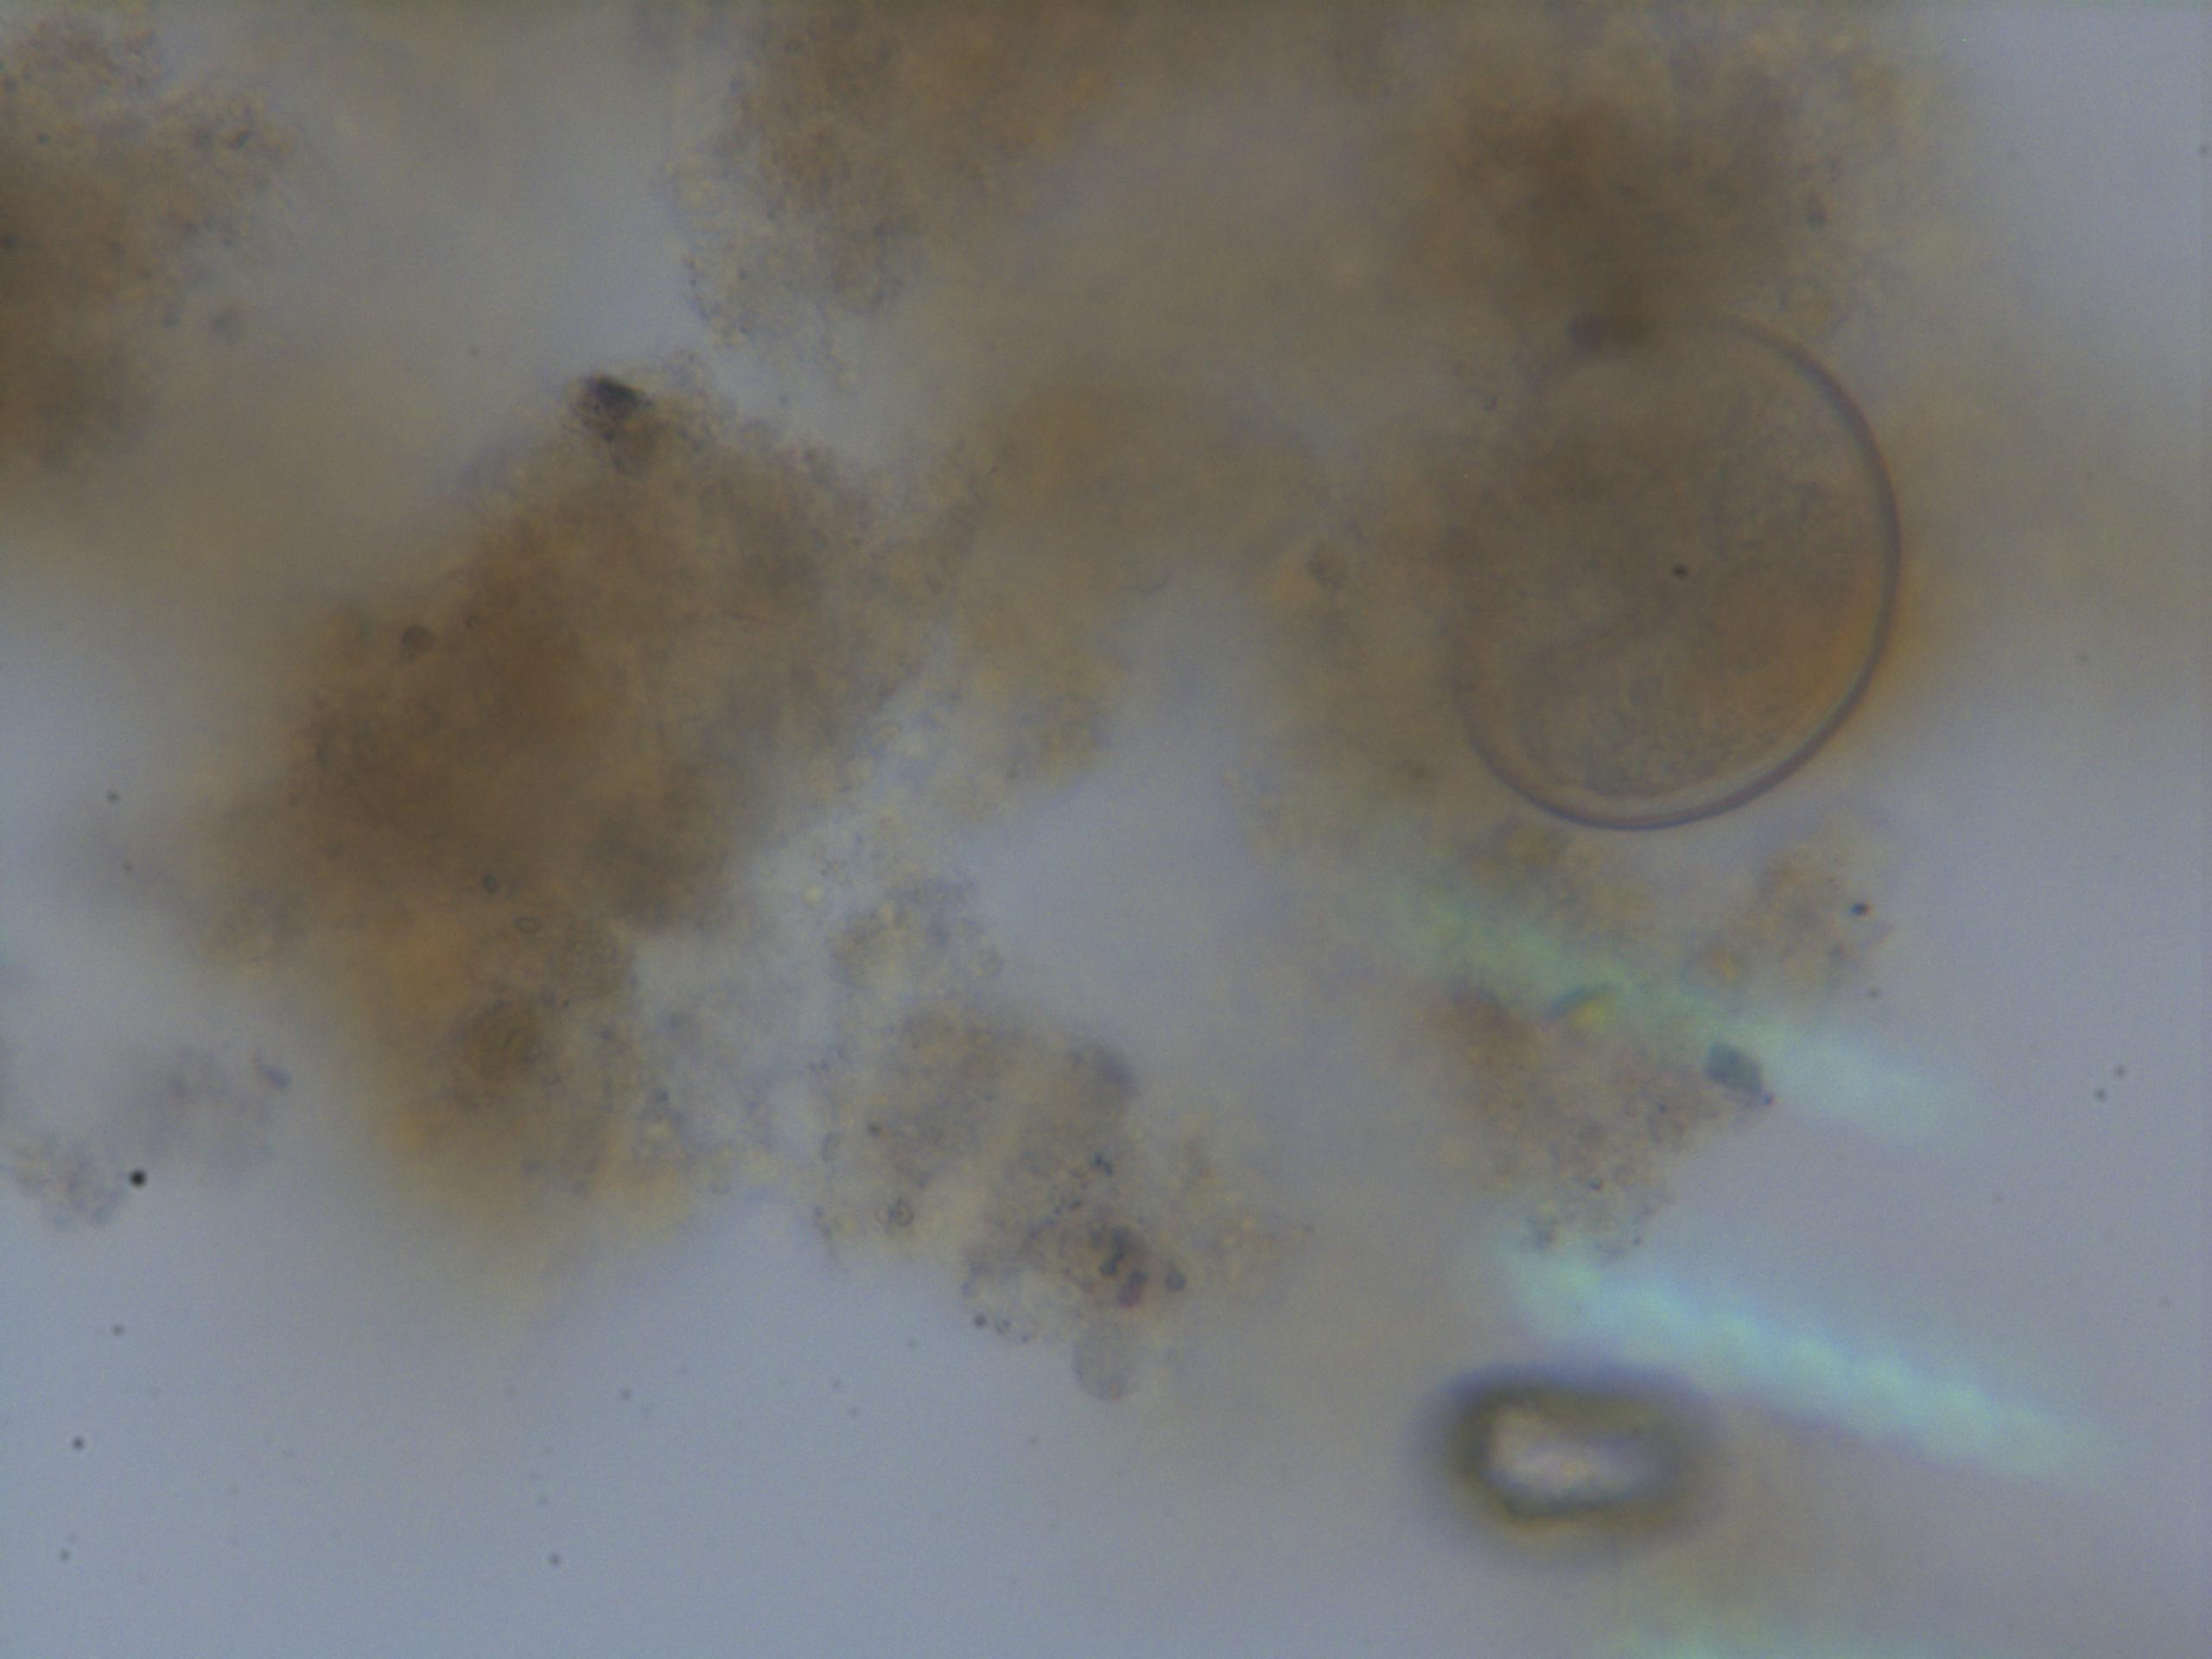open_floc: (2, 0, 2054, 1396)
protozoa: (1428, 308, 1921, 840)
